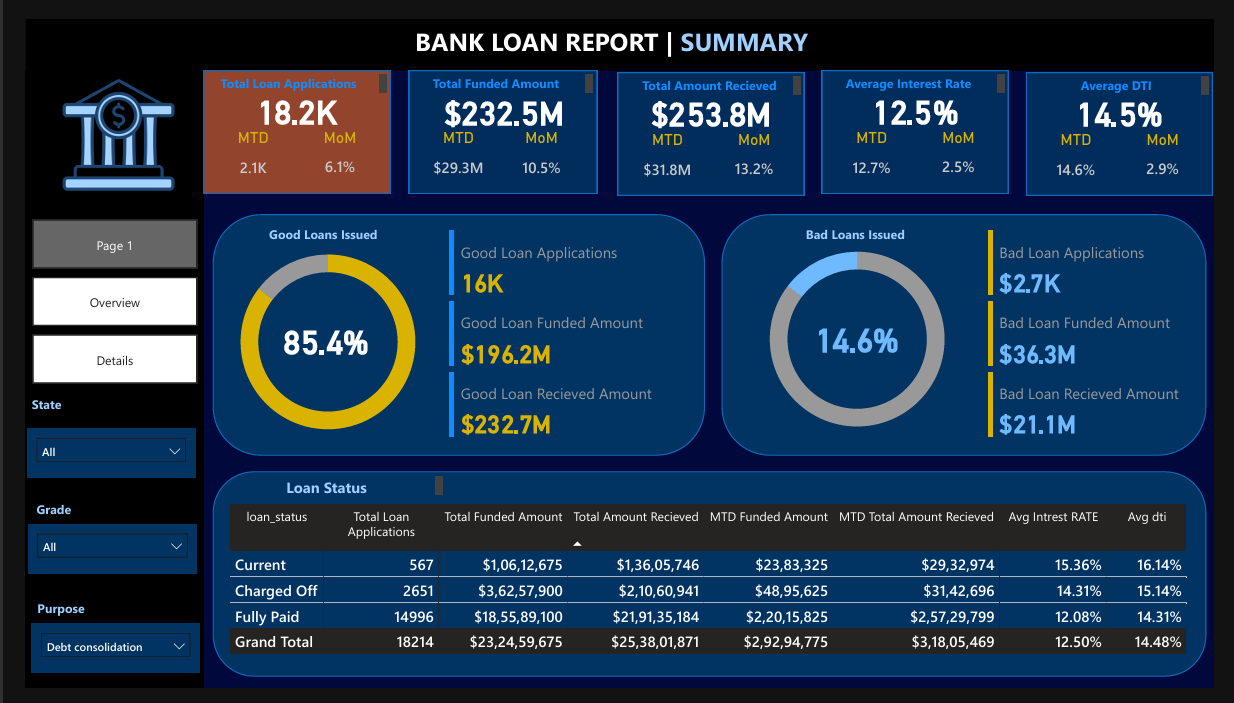

Layout of this report page (visuals, bound fields, positions):
{"tool":"powerbi","page":{"name":"Page 1","canvas":[1280,720],"ordinal":0},"visuals":[{"type":"shape","box":[0,55.3,192,665.3],"z":0},{"type":"shape","box":[192,55.3,201.2,133],"z":0,"group":"g1"},{"type":"shape","box":[413.3,55.3,202.9,133],"z":0,"group":"g2"},{"type":"shape","box":[858.6,55.3,201.2,133],"z":0,"group":"g4"},{"type":"shape","box":[638.6,57,201.2,133],"z":0,"group":"g3"},{"type":"shape","box":[1078.6,57,201.2,133],"z":0,"group":"g5"},{"type":"shape","box":[0.6,0,1279.4,54.8],"z":1000},{"type":"card","fields":{"Values":["financial_loan (1).Total Loan Applicationa"]},"box":[191.7,55,201.3,86.4],"z":1000,"group":"g1"},{"type":"card","fields":{"Values":["financial_loan (1).Avg Intrest RATE"]},"box":[858.3,55,201.3,86.4],"z":1000,"group":"g4"},{"type":"card","fields":{"Values":["financial_loan (1).Total Funded Amount"]},"box":[416.4,56.2,198.8,85],"z":1000,"group":"g2"},{"type":"card","fields":{"Values":["financial_loan (1).Total Amount Recieved"]},"box":[638.3,56.7,201.3,86.4],"z":1000,"group":"g3"},{"type":"card","fields":{"Values":["financial_loan (1).Avg dti"]},"box":[1078.3,56.7,201.3,86.4],"z":1000,"group":"g5"},{"type":"textbox","box":[415,0,618.3,55],"z":2000},{"type":"textbox","box":[192,55,201.3,29.9],"z":2000,"group":"g1"},{"type":"textbox","box":[413.4,55,203.1,29.9],"z":2000,"group":"g2"},{"type":"textbox","box":[858.6,55,201.3,29.9],"z":2000,"group":"g4"},{"type":"textbox","box":[638.6,56.7,201.3,29.9],"z":2000,"group":"g3"},{"type":"textbox","box":[1078.6,56.7,201.3,29.9],"z":2000,"group":"g5"},{"type":"card","fields":{"Values":["financial_loan (1).Bad Loan Per"]},"box":[842.3,285,105,116.7],"z":2000,"group":"g7"},{"type":"card","fields":{"Values":["financial_loan (1).Good Loan Per"]},"box":[270.9,287.4,104.5,116.7],"z":2000,"group":"g6"},{"type":"group","id":"g1","title":"Group 1","box":[191.7,55,201.7,133.3],"z":3000},{"type":"card","title":"MTD","fields":{"Values":["financial_loan (1).MTD Loan Applications"]},"box":[192.2,116.5,105.5,71.5],"z":3000,"group":"g1"},{"type":"card","title":"MTD","fields":{"Values":["financial_loan (1).MTD Funded Amount"]},"box":[413.6,116.5,106.4,71.5],"z":3000,"group":"g2"},{"type":"card","title":"MTD","fields":{"Values":["financial_loan (1).MTD Avg Intrest rate"]},"box":[858.8,116.5,105.5,71.5],"z":3000,"group":"g4"},{"type":"card","title":"MTD","fields":{"Values":["financial_loan (1).MTD Total Amount Recieved"]},"box":[638.8,118.2,105.5,71.5],"z":3000,"group":"g3"},{"type":"card","title":"MTD","fields":{"Values":["financial_loan (1).MTD Avg dti"]},"box":[1078.8,118.2,105.5,71.5],"z":3000,"group":"g5"},{"type":"group","id":"g2","title":"Group 1","box":[413.3,55,203.3,133.3],"z":4000},{"type":"card","title":"MoM","fields":{"Values":["financial_loan (1).MoM Loan Aplications"]},"box":[303.9,116.7,70,68.3],"z":4000,"group":"g1"},{"type":"card","title":"MoM","fields":{"Values":["financial_loan (1).MoM Funded Amount"]},"box":[520.3,116.7,71.7,71.7],"z":4000,"group":"g2"},{"type":"card","title":"MoM","fields":{"Values":["financial_loan (1).MoM Avg Intrest rate"]},"box":[970.5,116.7,70,68.3],"z":4000,"group":"g4"},{"type":"card","title":"MoM","fields":{"Values":["financial_loan (1).MoM Total Amount Recieved"]},"box":[750.5,118.4,70,68.3],"z":4000,"group":"g3"},{"type":"card","title":"MoM","fields":{"Values":["financial_loan (1).MoM Avg dti"]},"box":[1190.5,118.4,70,68.3],"z":4000,"group":"g5"},{"type":"shape","box":[201.7,210,530,260],"z":5000},{"type":"group","id":"g3","title":"Group 1","box":[638.3,56.7,203.3,133.3],"z":6000},{"type":"group","id":"g4","title":"Group 1","box":[858.3,55,200,133.3],"z":7000},{"type":"group","id":"g5","title":"Group 1","box":[1078.3,56.7,201.7,133.3],"z":8000},{"type":"shape","box":[750,210,521.7,260],"z":9000},{"type":"donutChart","fields":{"Category":["financial_loan (1).Good vs Bad Loan"],"Y":["financial_loan (1).Total Loan Applicationa"]},"box":[751.7,221.7,288.3,245],"z":9500,"group":"g7"},{"type":"donutChart","fields":{"Category":["financial_loan (1).Good vs Bad Loan"],"Y":["financial_loan (1).Total Loan Applicationa"]},"box":[181.7,225,288.3,245],"z":9500,"group":"g6"},{"type":"group","id":"g6","title":"Group 2","box":[181.7,225,288.3,245],"z":10000},{"type":"cardVisual","fields":{"Data":["financial_loan (1).Good Loan Applications","financial_loan (1).Good Loan Funded Amount","Date Table.Good Loan Recieved  Amount"]},"box":[451.7,223.3,288.3,233.3],"z":11000},{"type":"group","id":"g7","title":"Group 2","box":[751.7,221.7,288.3,245],"z":12000},{"type":"cardVisual","fields":{"Data":["financial_loan (1).Bad Loan Applications","financial_loan (1).Bad Loan Funded Amount","financial_loan (1).Bad Loan Recieved  Amount"]},"box":[1031.7,223.3,248.3,233.3],"z":13000},{"type":"textbox","box":[235,218.3,171.7,30],"z":14000},{"type":"shape","box":[201.7,486.7,1070,221.7],"z":15000},{"type":"textbox","box":[808.3,218.3,171.7,30],"z":16000},{"type":"tableEx","fields":{"Values":["financial_loan (1).loan_status","financial_loan (1).Total Loan Applicationa","financial_loan (1).Total Funded Amount","financial_loan (1).Total Amount Recieved","financial_loan (1).MTD Funded Amount","financial_loan (1).MTD Total Amount Recieved","financial_loan (1).Avg Intrest RATE","financial_loan (1).Avg dti"]},"box":[215,518.3,1058.3,201.7],"z":17000},{"type":"textbox","box":[201.7,488.3,253.3,30],"z":18000},{"type":"slicer","fields":{"Values":["financial_loan (1).address_state"]},"box":[1.7,440.6,181.7,53.3],"z":19000},{"type":"textbox","box":[1.7,400.6,171.7,30],"z":20000},{"type":"slicer","fields":{"Values":["financial_loan (1).grade"]},"box":[3.4,543.9,181.7,53.3],"z":21000},{"type":"slicer","fields":{"Values":["financial_loan (1).purpose"]},"box":[6.7,650.6,181.7,53.3],"z":22000},{"type":"textbox","box":[8.4,620.6,171.7,30],"z":22001},{"type":"textbox","box":[6.7,513.9,171.7,30],"z":22002},{"type":"pageNavigator","box":[8.3,216.1,176.7,176.7],"z":22003},{"type":"image","box":[0,56.7,200,135],"z":22004}]}

Visuals, with their boxes in screenshot pixels (x1, y1, x2, y2), scaled from the page's 1280x720 canvas onto the 1234x703 screenshot:
shape: x1=0, y1=54, x2=185, y2=702
shape: x1=185, y1=54, x2=379, y2=184
shape: x1=398, y1=54, x2=594, y2=184
shape: x1=828, y1=54, x2=1022, y2=184
shape: x1=616, y1=56, x2=810, y2=186
shape: x1=1040, y1=56, x2=1233, y2=186
shape: x1=1, y1=0, x2=1233, y2=54
card - financial_loan (1).Total Loan Applicationa: x1=185, y1=54, x2=379, y2=138
card - financial_loan (1).Avg Intrest RATE: x1=827, y1=54, x2=1022, y2=138
card - financial_loan (1).Total Funded Amount: x1=401, y1=55, x2=593, y2=138
card - financial_loan (1).Total Amount Recieved: x1=615, y1=55, x2=809, y2=140
card - financial_loan (1).Avg dti: x1=1040, y1=55, x2=1233, y2=140
textbox: x1=400, y1=0, x2=996, y2=54
textbox: x1=185, y1=54, x2=379, y2=83
textbox: x1=399, y1=54, x2=594, y2=83
textbox: x1=828, y1=54, x2=1022, y2=83
textbox: x1=616, y1=55, x2=810, y2=85
textbox: x1=1040, y1=55, x2=1233, y2=85
card - financial_loan (1).Bad Loan Per: x1=812, y1=278, x2=913, y2=392
card - financial_loan (1).Good Loan Per: x1=261, y1=281, x2=362, y2=395
"Group 1" group: x1=185, y1=54, x2=379, y2=184
"MTD" card: x1=185, y1=114, x2=287, y2=184
"MTD" card: x1=399, y1=114, x2=501, y2=184
"MTD" card: x1=828, y1=114, x2=930, y2=184
"MTD" card: x1=616, y1=115, x2=718, y2=185
"MTD" card: x1=1040, y1=115, x2=1142, y2=185
"Group 1" group: x1=398, y1=54, x2=594, y2=184
"MoM" card: x1=293, y1=114, x2=360, y2=181
"MoM" card: x1=502, y1=114, x2=571, y2=184
"MoM" card: x1=936, y1=114, x2=1003, y2=181
"MoM" card: x1=724, y1=116, x2=791, y2=182
"MoM" card: x1=1148, y1=116, x2=1215, y2=182
shape: x1=194, y1=205, x2=705, y2=459
"Group 1" group: x1=615, y1=55, x2=811, y2=186
"Group 1" group: x1=827, y1=54, x2=1020, y2=184
"Group 1" group: x1=1040, y1=55, x2=1233, y2=186
shape: x1=723, y1=205, x2=1226, y2=459
donutChart - financial_loan (1).Good vs Bad Loan x financial_loan (1).Total Loan Applicationa: x1=725, y1=216, x2=1003, y2=456
donutChart - financial_loan (1).Good vs Bad Loan x financial_loan (1).Total Loan Applicationa: x1=175, y1=220, x2=453, y2=459
"Group 2" group: x1=175, y1=220, x2=453, y2=459
cardVisual - financial_loan (1).Good Loan Applications x financial_loan (1).Good Loan Funded Amount: x1=435, y1=218, x2=713, y2=446
"Group 2" group: x1=725, y1=216, x2=1003, y2=456
cardVisual - financial_loan (1).Bad Loan Applications x financial_loan (1).Bad Loan Funded Amount: x1=995, y1=218, x2=1233, y2=446
textbox: x1=227, y1=213, x2=392, y2=242
shape: x1=194, y1=475, x2=1226, y2=692
textbox: x1=779, y1=213, x2=945, y2=242
tableEx - financial_loan (1).loan_status x financial_loan (1).Total Loan Applicationa: x1=207, y1=506, x2=1228, y2=702
textbox: x1=194, y1=477, x2=439, y2=506
slicer - financial_loan (1).address_state: x1=2, y1=430, x2=177, y2=482
textbox: x1=2, y1=391, x2=167, y2=420
slicer - financial_loan (1).grade: x1=3, y1=531, x2=178, y2=583
slicer - financial_loan (1).purpose: x1=6, y1=635, x2=182, y2=687
textbox: x1=8, y1=606, x2=174, y2=635
textbox: x1=6, y1=502, x2=172, y2=531
pageNavigator: x1=8, y1=211, x2=178, y2=384
image: x1=0, y1=55, x2=193, y2=187
